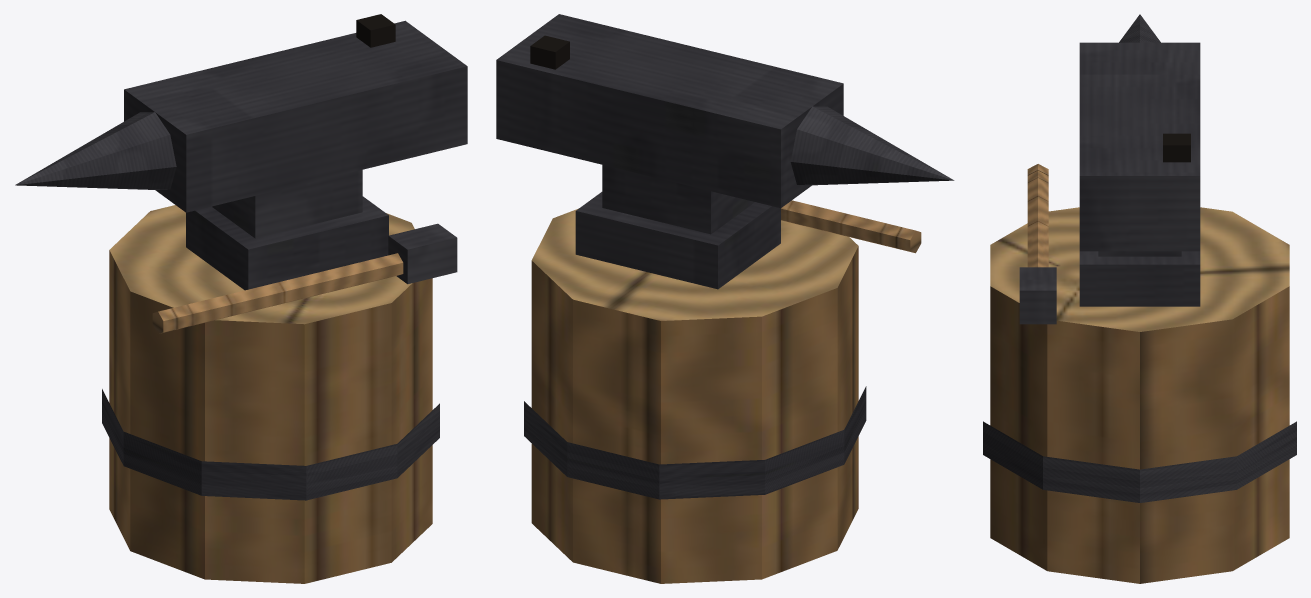
Rendered from prop_aambeeld.glb.
The picture shows the model from 3 angles, left to right: view 1: azimuth 30°, elevation 25°; view 2: azimuth 150°, elevation 25°; view 3: azimuth 270°, elevation 25°; orthographic projection. The views are drawn at different scales.
Parts seen in each view (by area): view 1: prop_aambeeld; view 2: prop_aambeeld; view 3: prop_aambeeld.
Boxes of the visible parts, x1,y1,x2,y2 form: prop_aambeeld: (15,14,467,583); prop_aambeeld: (496,14,954,583); prop_aambeeld: (983,14,1296,583).
Size of the model in its own units: 0.51 by 0.52 by 0.3386.
Materials: 1 (1 with a texture image).
